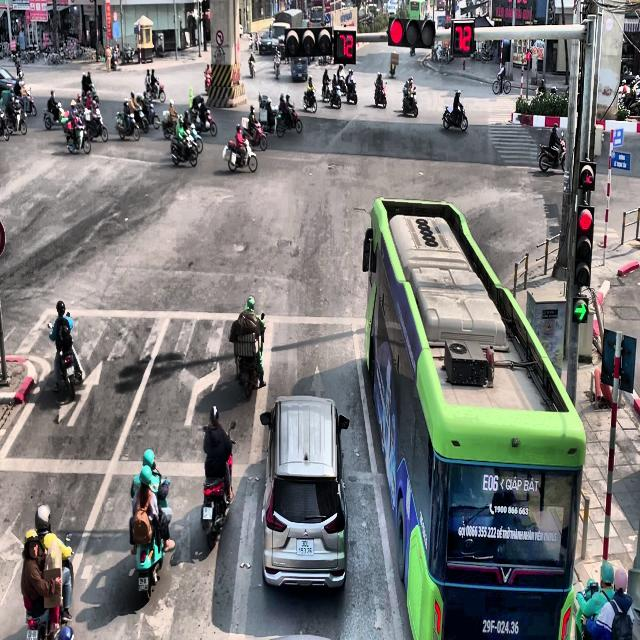lisence_plate: (481, 616, 520, 636), (295, 537, 314, 556), (137, 574, 150, 592), (202, 505, 213, 520)
